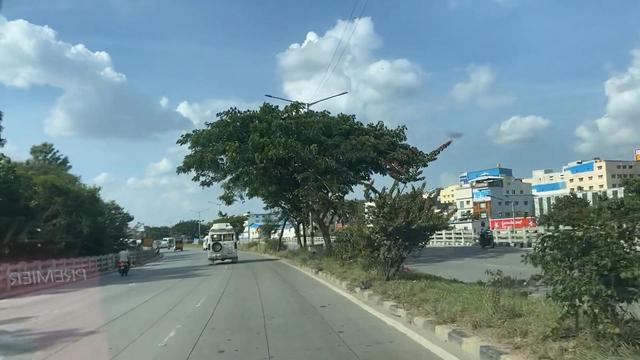HMV: (203, 219, 238, 262)
